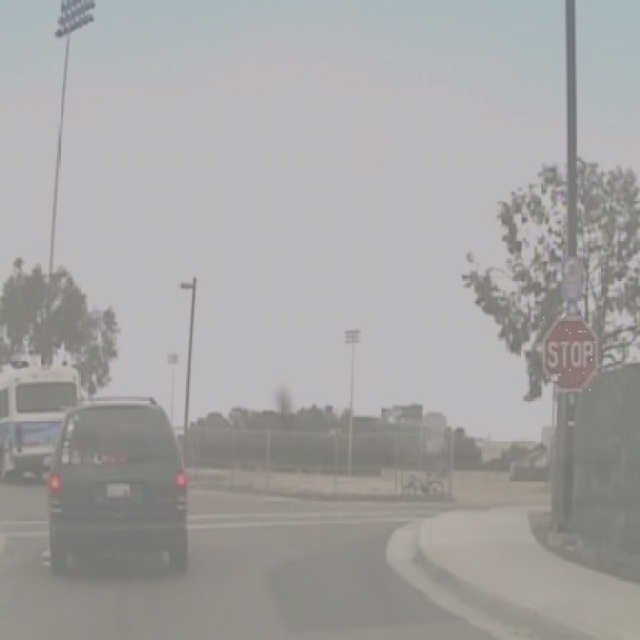stop: (541, 314, 597, 392)
